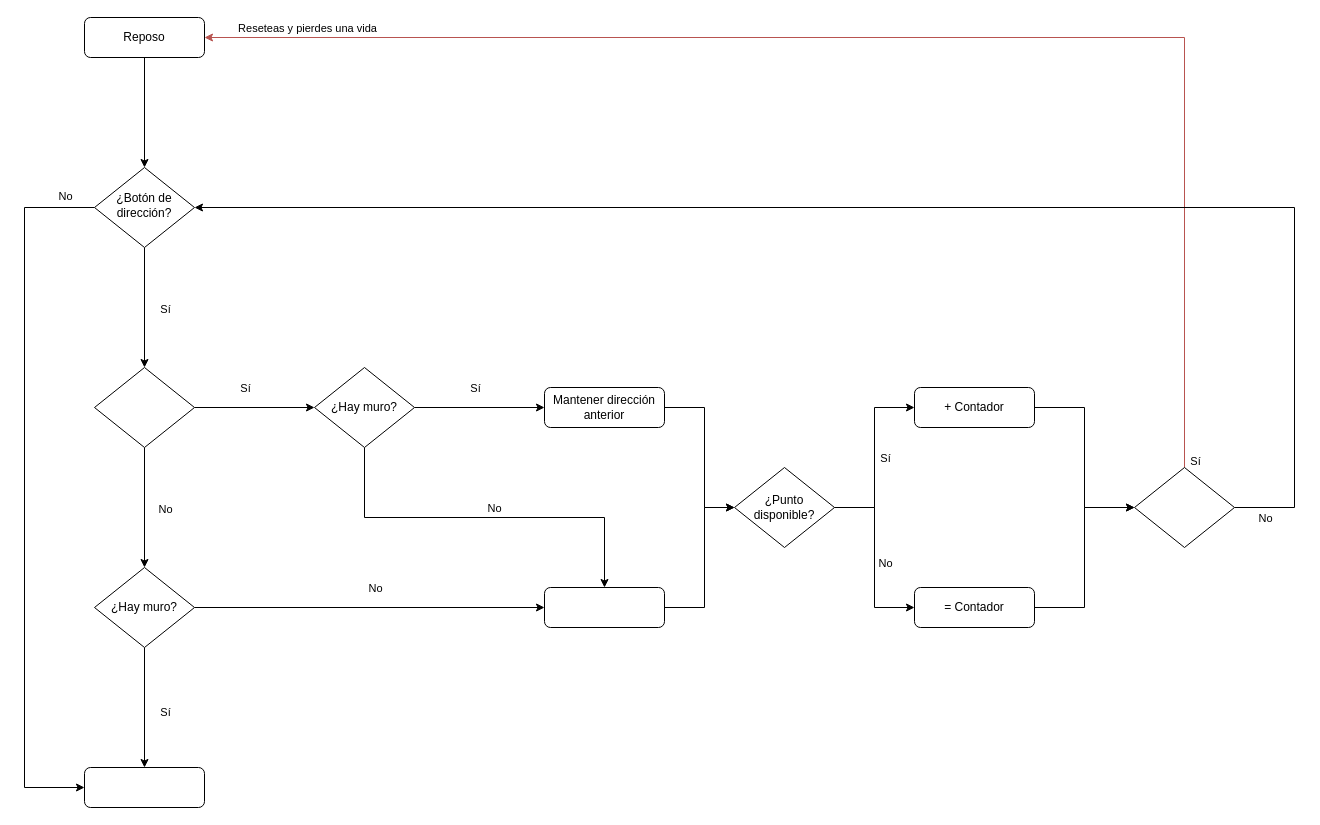
The diagram is 1320 pixels wide and 825 high, and some of its shapes have lost their labels. The centre of each missing label's shape, as x and y in pixels:
Mover dirección del botón: (604,607)
No mover: (144,787)
¿Está ya en movimiento?: (144,407)
¿Hay fantasma?: (1184,507)
